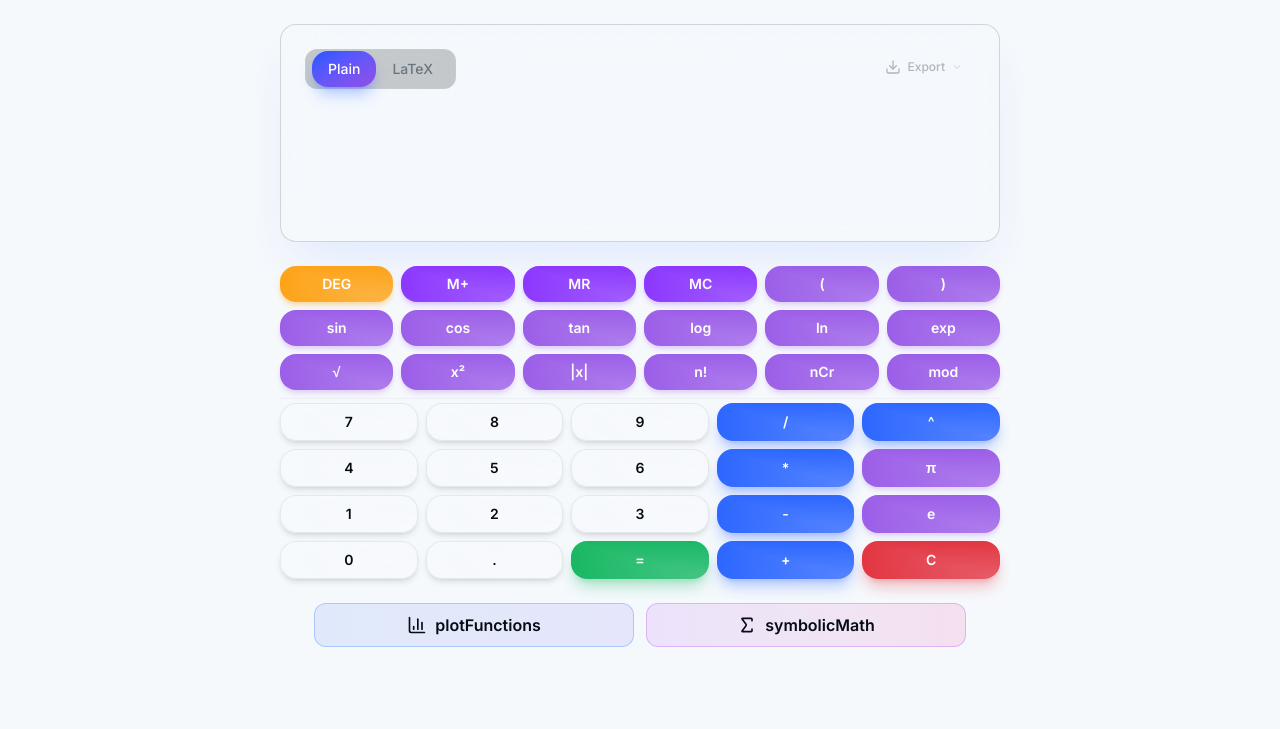
Calculator UI flow (compute engine mocked) › handles multiple sequential calculations
The width and height of the screenshot is (1280, 729).
First calculation: 2 + 2
Type keys "2+2"
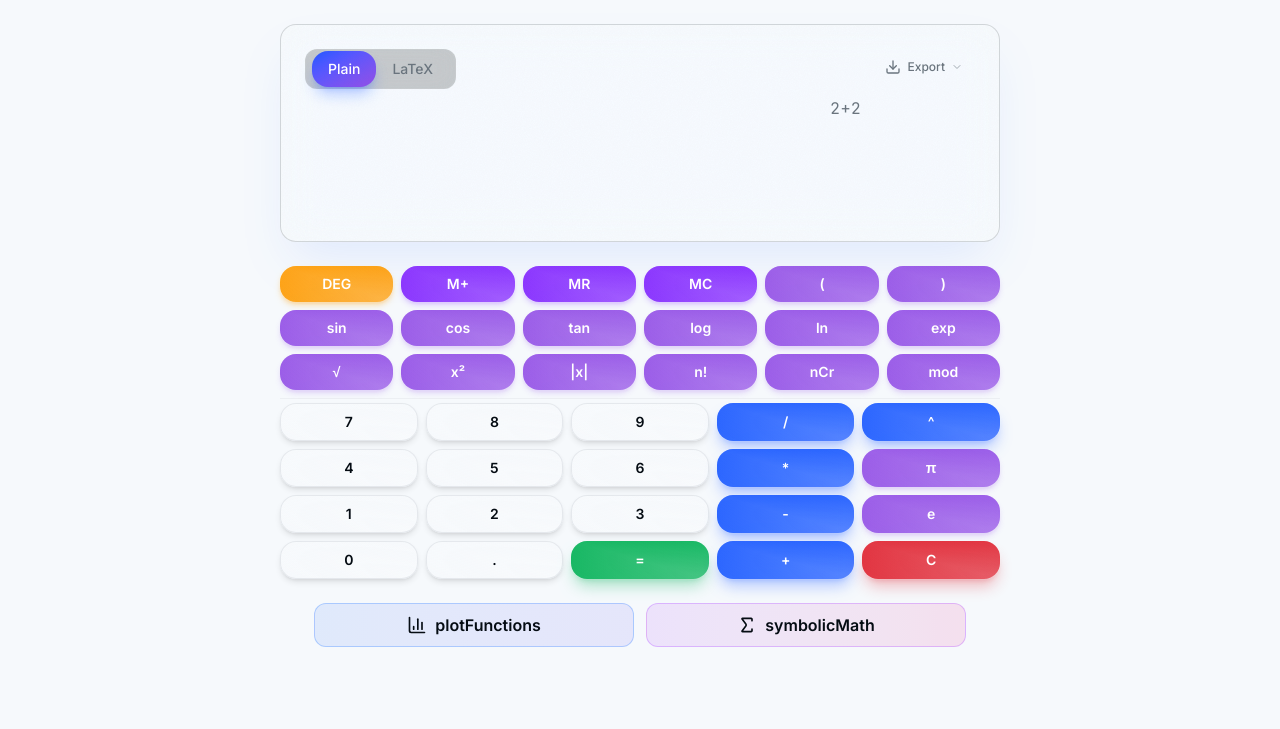
Press Enter
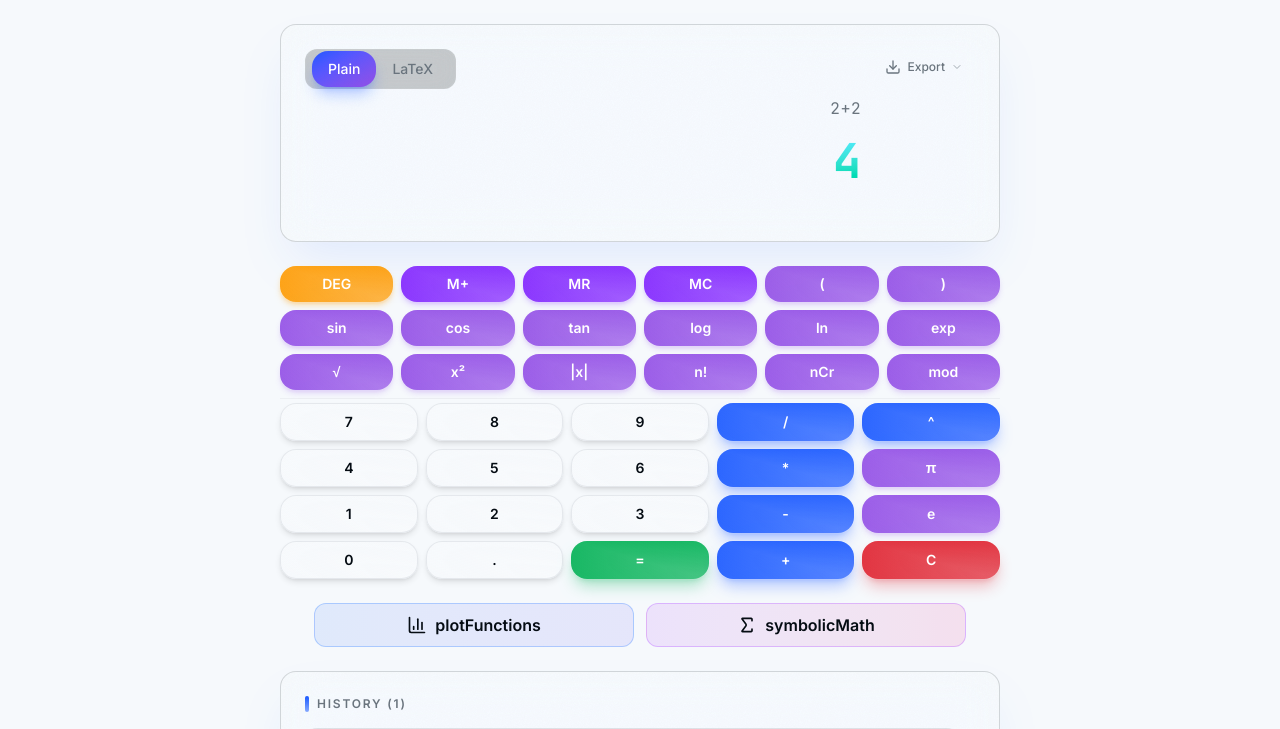
Result: the message named "result:" reads "4" at [833,129,862,192]
Clear for next calculation
Click the cell named "clear all" at (931, 560), box [862,541,1000,579]
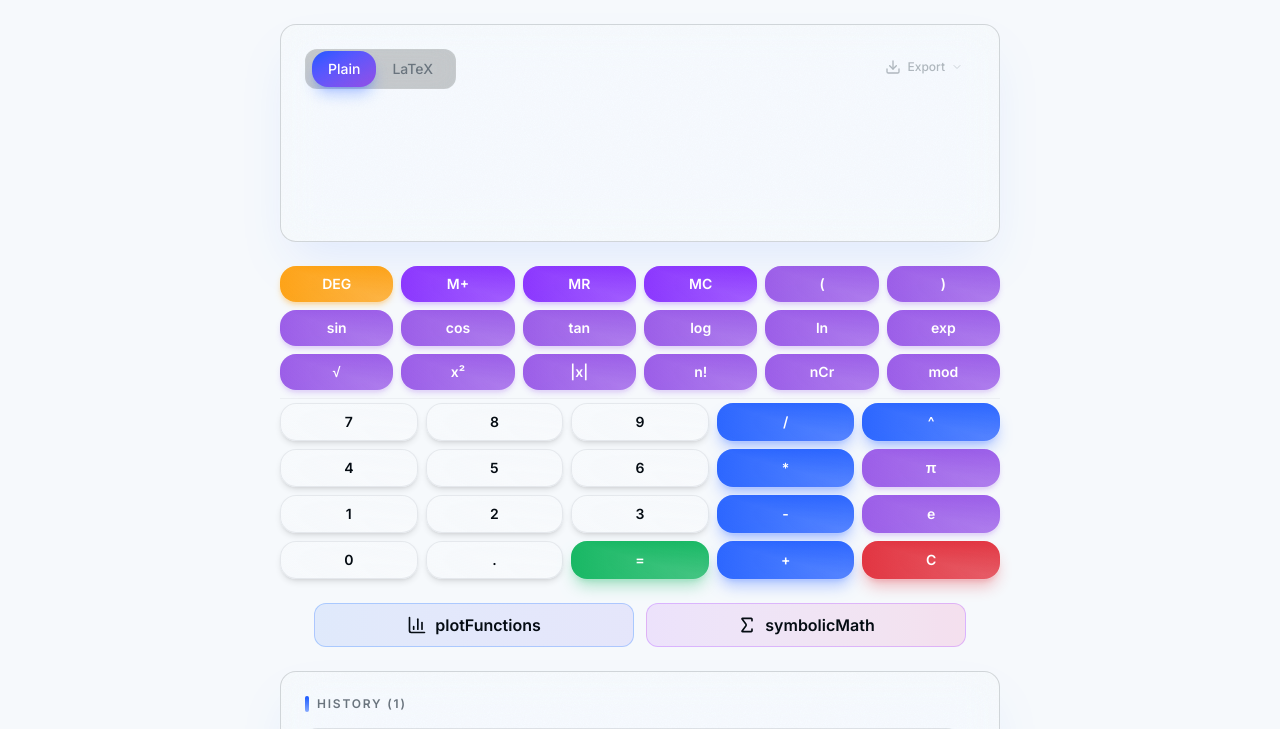
Second calculation: 10 * 5
Type keys "10*5"
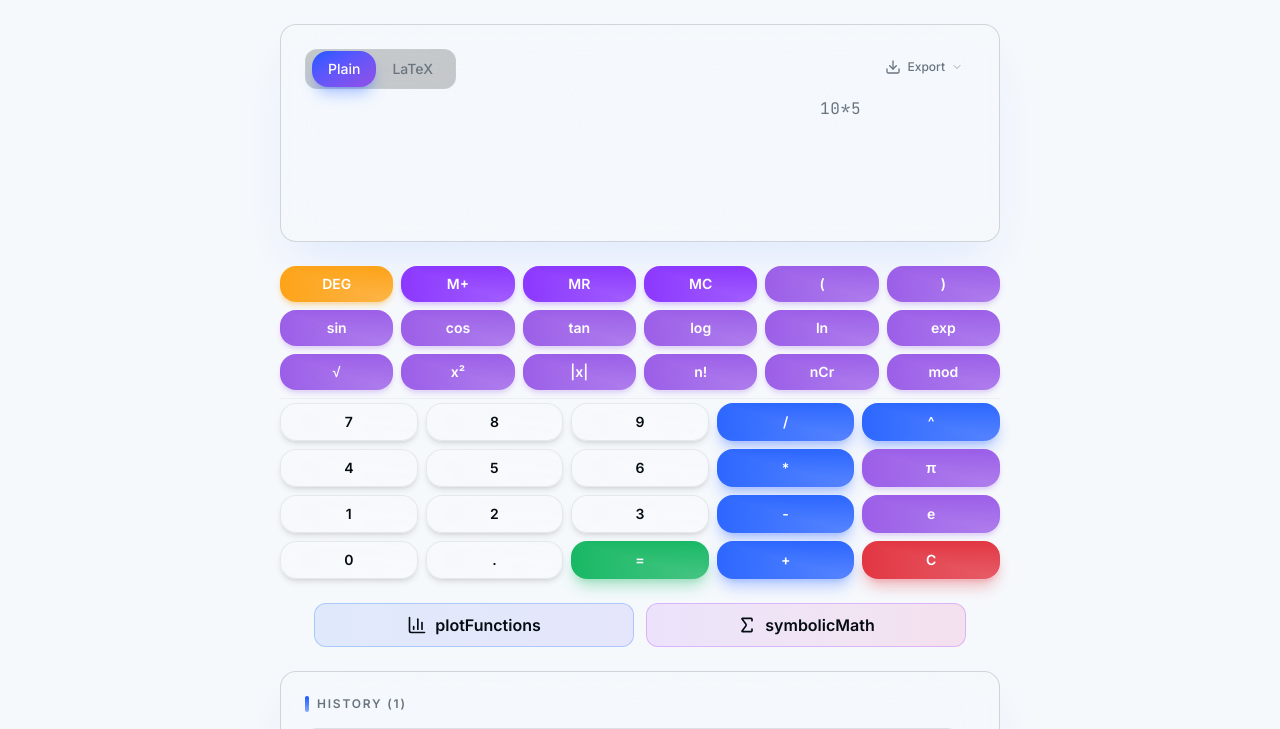
Press Enter
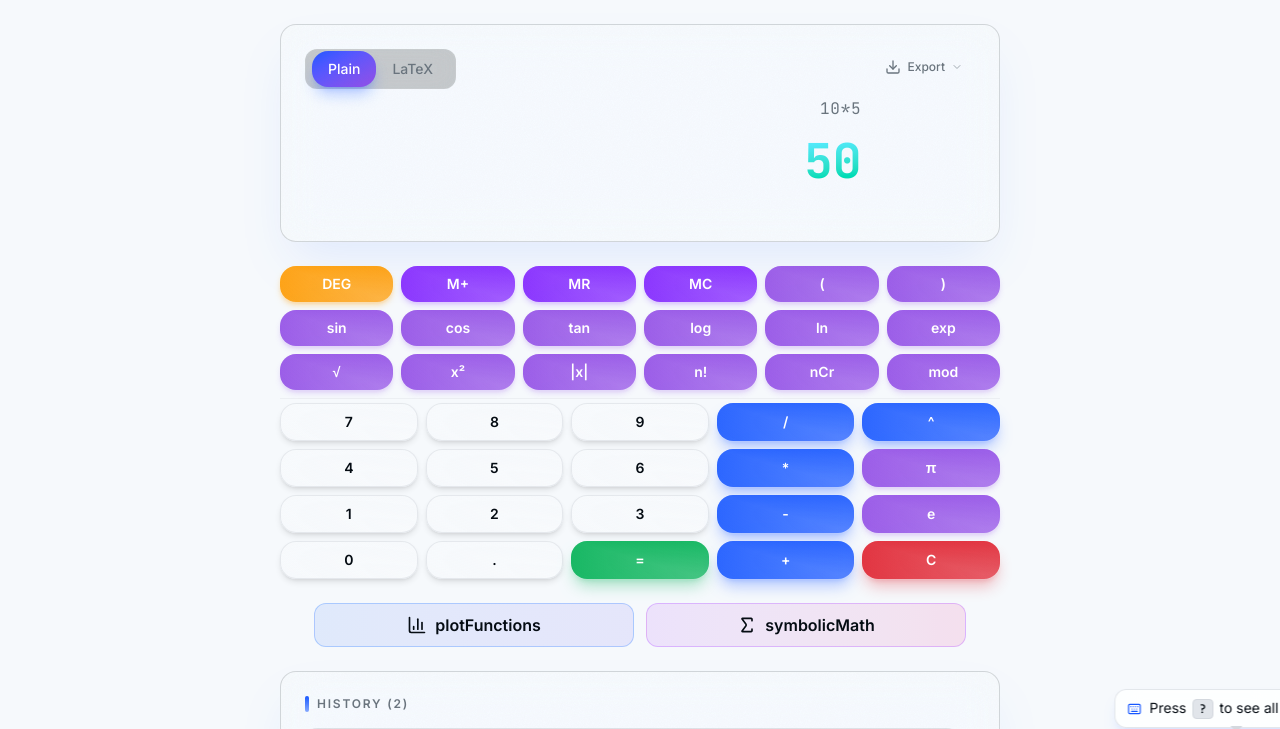
Result: the message named "result:" reads "50" at [804,129,862,192]
